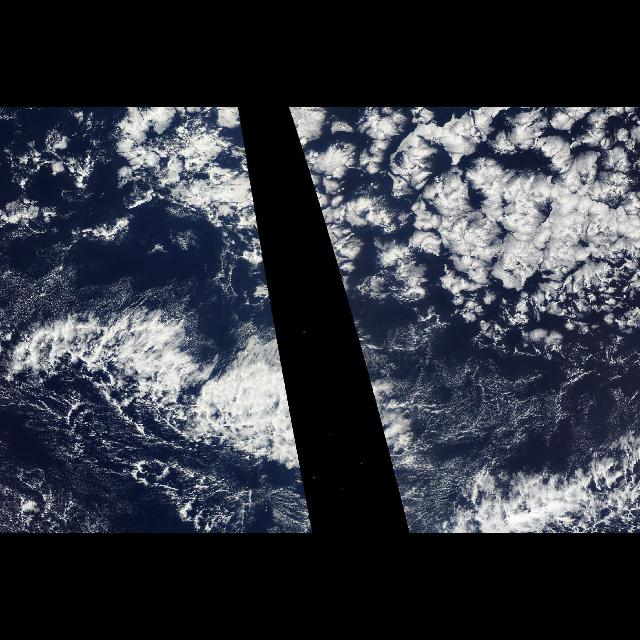Fish: (12, 302, 304, 526), (349, 316, 461, 490), (466, 458, 640, 534)
Flower: (288, 108, 640, 358), (115, 108, 273, 302)
Gravel: (94, 438, 302, 534), (5, 112, 120, 240)
Sugar: (3, 359, 277, 521), (386, 336, 640, 468)
